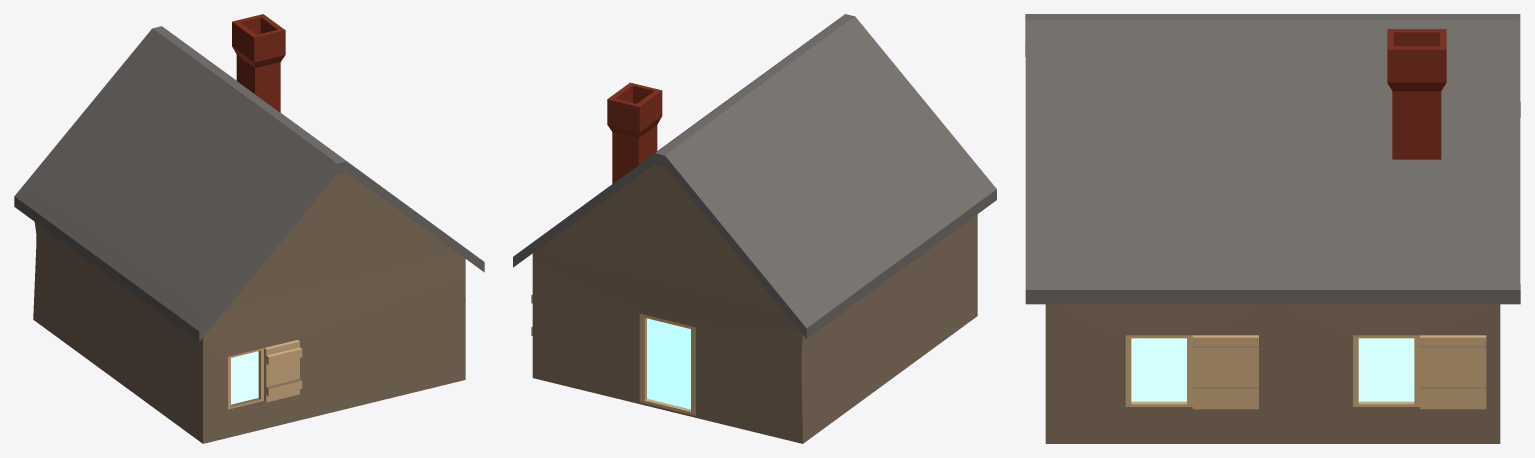
File: maison_esclave.fbx
3 views of the same model, side by side, from view 1: azimuth 30°, elevation 25°; view 2: azimuth 150°, elevation 25°; view 3: azimuth 270°, elevation 25° (orthographic). The views are drawn at different scales.
Visible parts, largest first — view 1: Cube; view 2: Cube; view 3: Cube.
Boxes of the visible parts, bbox=[...] form: Cube: bbox=[14, 14, 484, 443]; Cube: bbox=[513, 14, 996, 443]; Cube: bbox=[1025, 14, 1520, 443].
Size of the model in its own units: 381 by 344 by 428.
